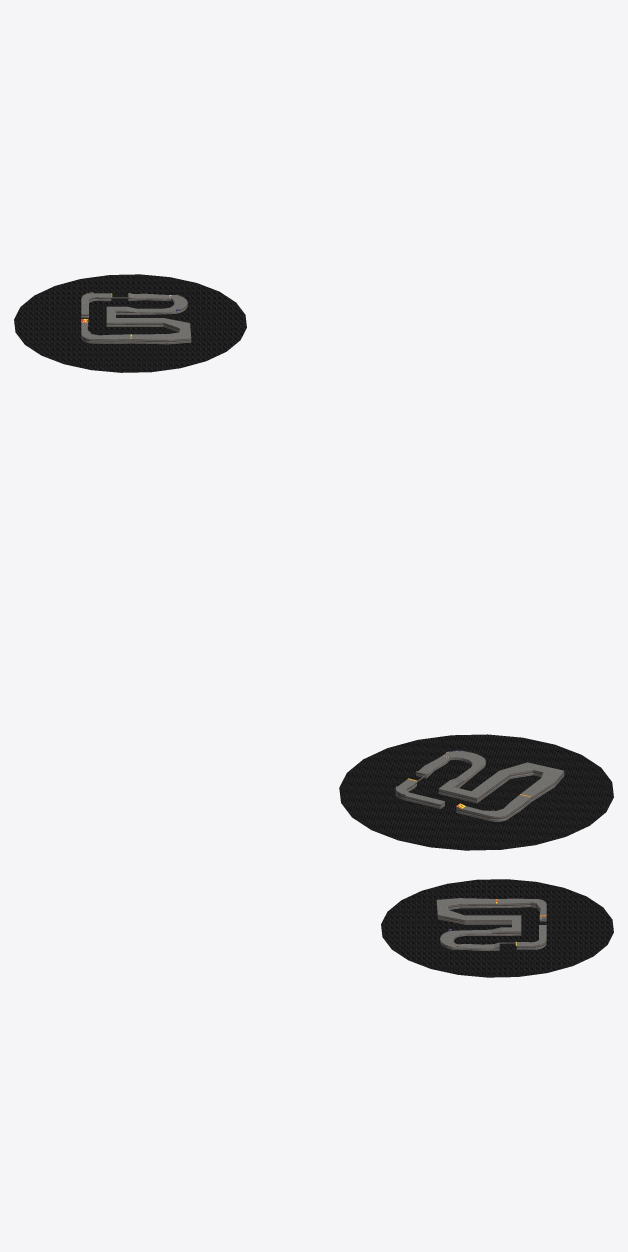
The picture shows the model from 3 angles, top to bottom: view 1: azimuth 90°, elevation 25°; view 2: azimuth 150°, elevation 25°; view 3: azimuth 270°, elevation 25°; orthographic projection. The views are drawn at different scales.
Visible parts, largest first — view 1: Sunset_Bridge-SKP--Sunset_water, Sunset_Bridge-SKP--Stony_road, Sunset_Bridge-SKP--Stone_brick_wall; view 2: Sunset_Bridge-SKP--Sunset_water, Sunset_Bridge-SKP--Stony_road, Sunset_Bridge-SKP--Stone_brick_wall; view 3: Sunset_Bridge-SKP--Sunset_water, Sunset_Bridge-SKP--Stony_road, Sunset_Bridge-SKP--Stone_brick_wall.
Part boxes in pixels (left/top/right/bottom): Sunset_Bridge-SKP--Sunset_water: left=14, top=274, right=246, bottom=372; Sunset_Bridge-SKP--Stony_road: left=81, top=293, right=191, bottom=339; Sunset_Bridge-SKP--Stone_brick_wall: left=81, top=292, right=191, bottom=344; Sunset_Bridge-SKP--Sunset_water: left=339, top=734, right=613, bottom=850; Sunset_Bridge-SKP--Stony_road: left=395, top=751, right=563, bottom=816; Sunset_Bridge-SKP--Stone_brick_wall: left=395, top=751, right=564, bottom=821; Sunset_Bridge-SKP--Sunset_water: left=381, top=879, right=613, bottom=977; Sunset_Bridge-SKP--Stony_road: left=436, top=898, right=546, bottom=948; Sunset_Bridge-SKP--Stone_brick_wall: left=436, top=901, right=546, bottom=950.
Size of the model in its own units: 321937 by 3398 by 227595.
6 materials, 6 textured.
